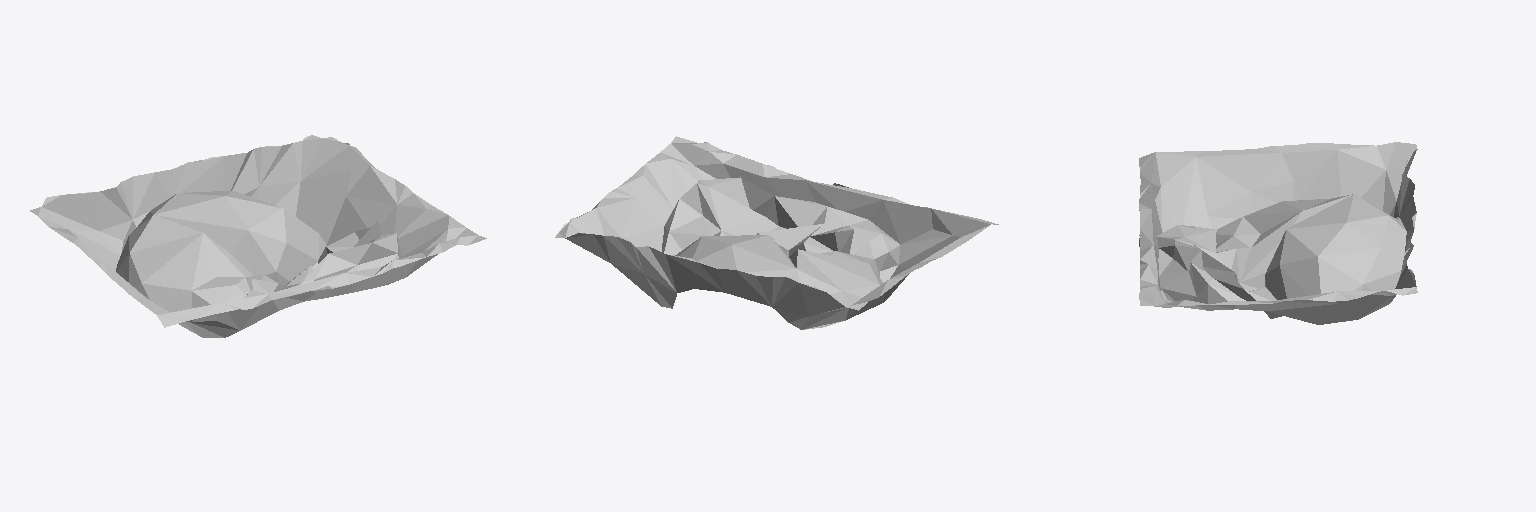
Rendered from abra_tiny.obj.
3 views of the same model, side by side, from view 1: azimuth 30°, elevation 25°; view 2: azimuth 150°, elevation 25°; view 3: azimuth 270°, elevation 25° (orthographic).
Visible parts, largest first — view 1: abra_korb2; view 2: abra_korb2; view 3: abra_korb2.
Boxes of the visible parts, <box> form: abra_korb2: <box>30,135,486,337</box>; abra_korb2: <box>555,136,998,329</box>; abra_korb2: <box>1139,142,1417,324</box>.
Bounding box in the file's own units: 2.19 × 0.5678 × 1.65.